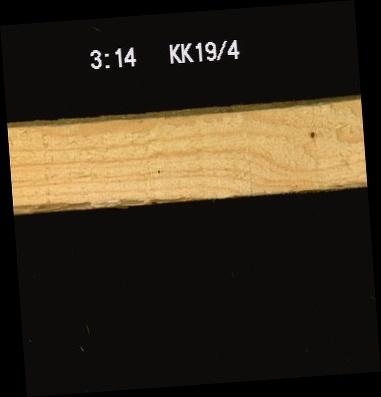small_knot: (307, 127, 316, 140)
